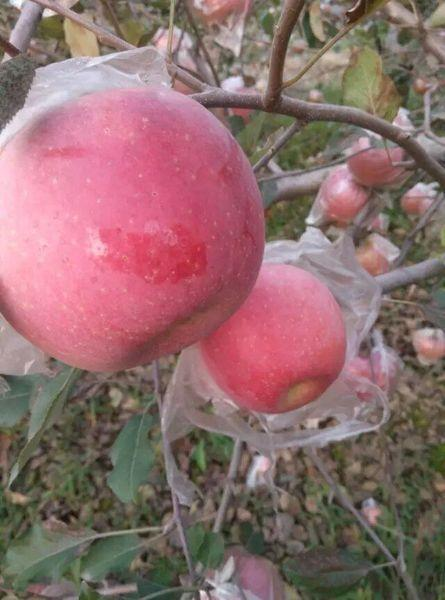apple: (1, 83, 267, 368), (188, 259, 346, 413)
